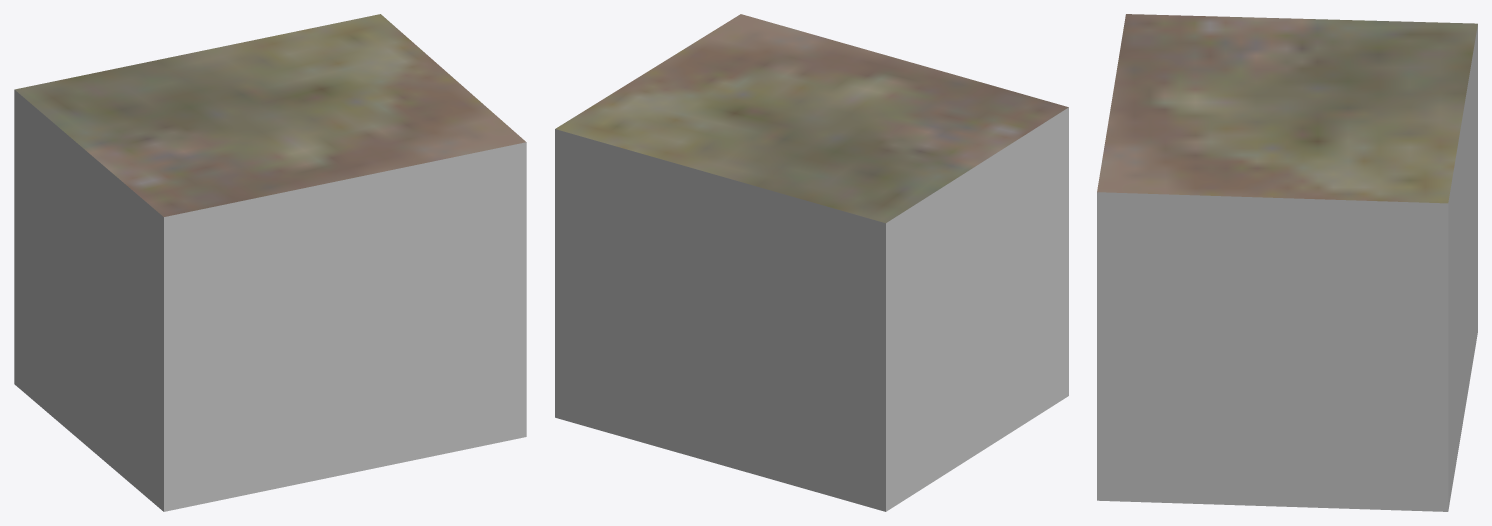
File: DEBW_0010007TwZ7.gltf
The picture shows the model from 3 angles, left to right: view 1: azimuth 30°, elevation 25°; view 2: azimuth 150°, elevation 25°; view 3: azimuth 270°, elevation 25°; orthographic projection. The views are drawn at different scales.
Visible parts, largest first — view 1: Z_UP; view 2: Z_UP; view 3: Z_UP.
Part boxes in pixels (left/top/right/bottom): Z_UP: left=14, top=14, right=526, bottom=511; Z_UP: left=555, top=14, right=1068, bottom=511; Z_UP: left=1097, top=14, right=1477, bottom=511.
Bounding box in the file's own units: 5.73 × 4.35 × 4.87.
Materials: 2 (1 with a texture image).
